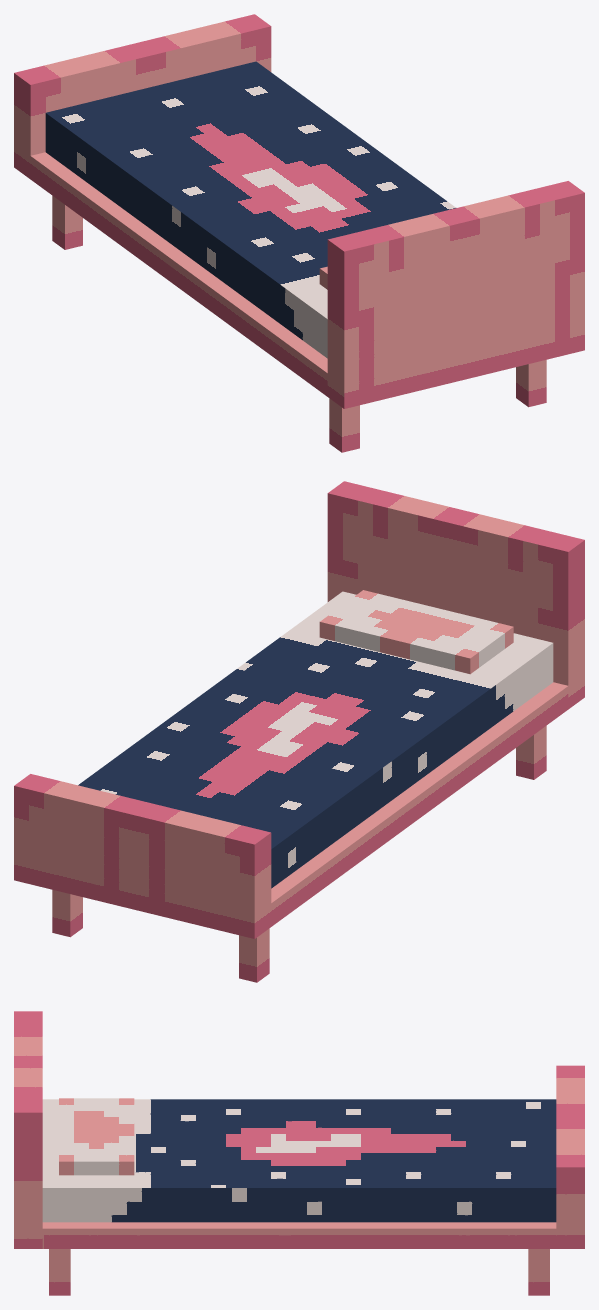
File: bad_bed.gltf
3 renders of one model, top to bottom at view 1: azimuth 30°, elevation 25°; view 2: azimuth 150°, elevation 25°; view 3: azimuth 270°, elevation 25°, orthographic. The views are drawn at different scales.
Parts seen in each view (by area): view 1: cuboid; view 2: cuboid; view 3: cuboid.
Part boxes in pixels (x1,y1,x2,y2): cuboid: (14,14,584,452); cuboid: (14,481,584,982); cuboid: (14,1011,584,1295).
Size of the model in its own units: 1 by 0.875 by 2.38.
1 material, 1 textured.
